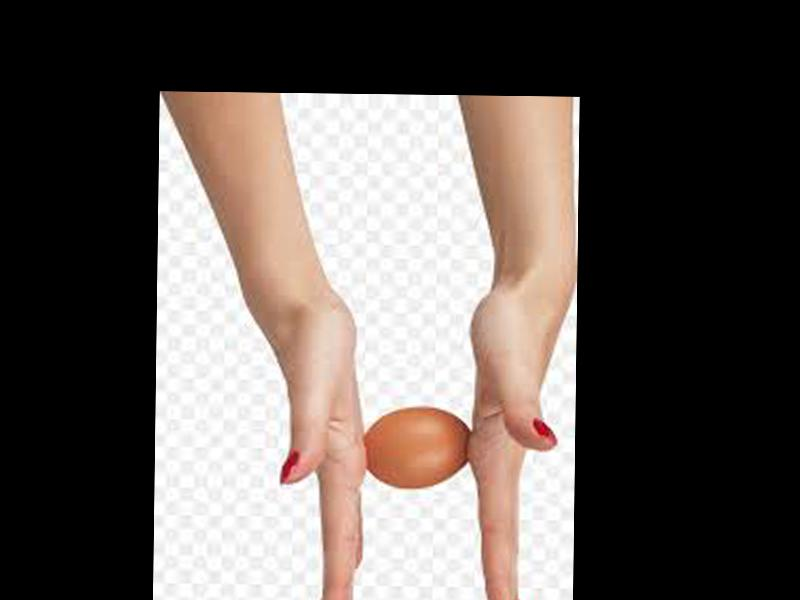Eggs: (363, 406, 469, 486)
